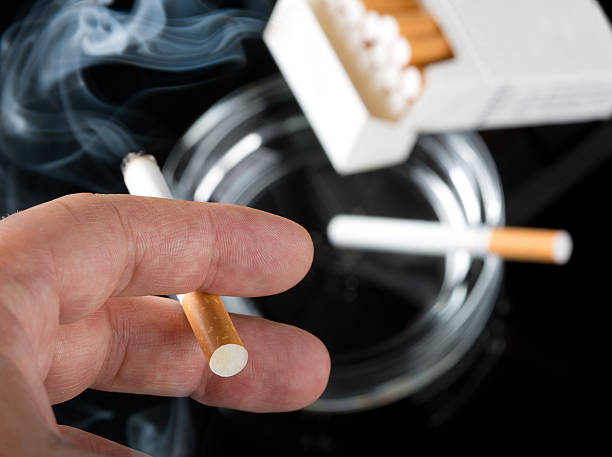cigarette: (261, 0, 612, 175), (120, 150, 251, 378), (324, 210, 574, 267), (376, 9, 440, 44), (390, 35, 452, 66), (342, 0, 417, 22)
